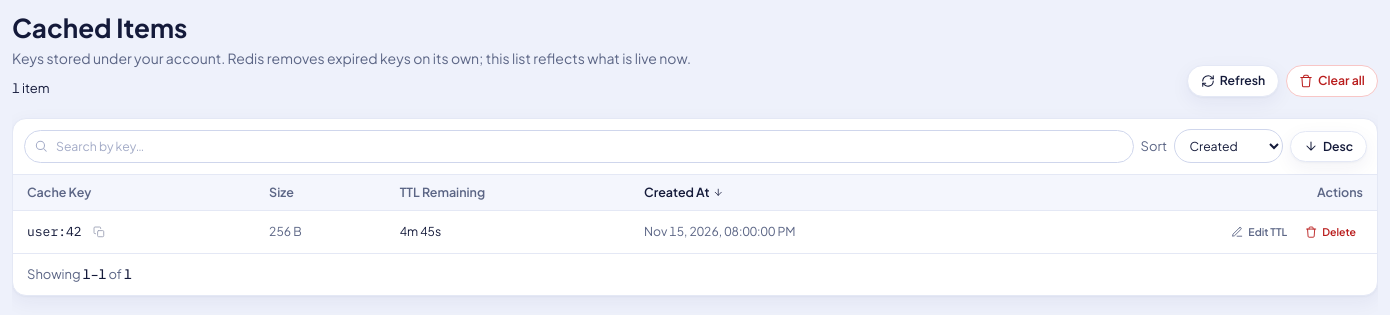
Test case: Cached Items redesign › sortable column headers drive the server-side query
expect the text "user:42" is shown: met, box [27, 223, 82, 242]
What coordinates should you click on to do the following:
click the button "Size"
I would click on:
 (281, 192)
Its box is [266, 184, 297, 201].
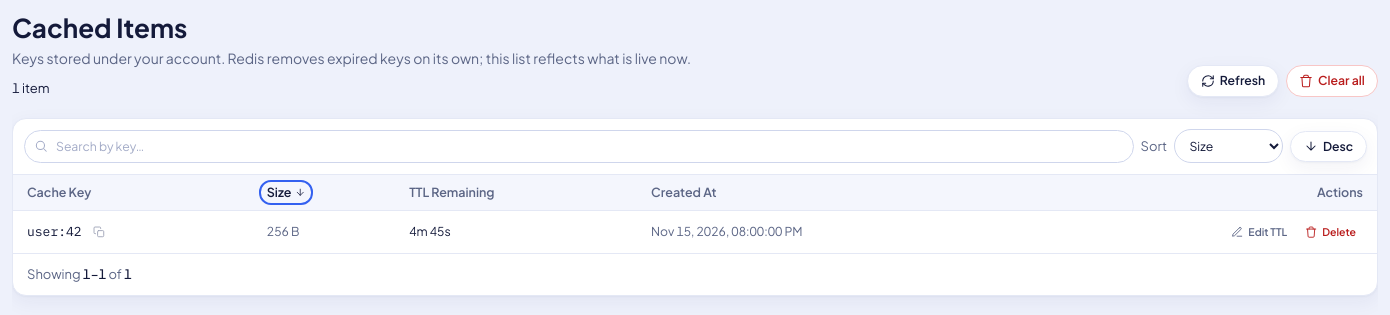
expect the column heading "Size" has attribute aria-sort="descending": met, box [253, 175, 395, 211]
